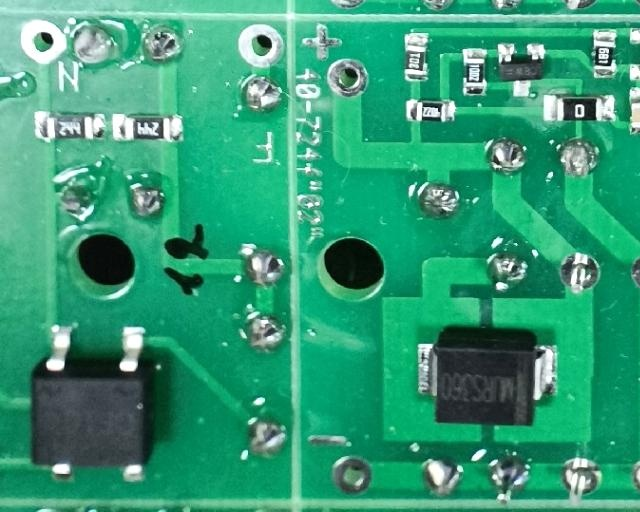chip-resistor: (540, 91, 616, 124), (31, 108, 106, 141), (110, 110, 185, 143), (591, 26, 618, 79), (460, 46, 487, 98), (405, 97, 458, 123), (403, 31, 429, 83)
diode: (413, 324, 559, 428)
ic: (28, 321, 156, 485)
transistor: (497, 41, 547, 98)
